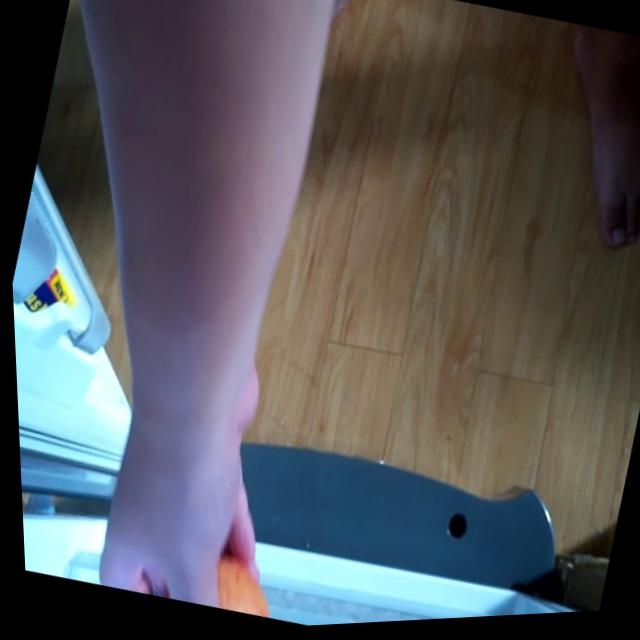apple: (199, 550, 279, 623)
